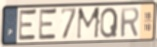7: (60, 7, 78, 41)
E: (38, 7, 59, 42), (17, 8, 38, 43)
M: (75, 6, 103, 41)
Q: (99, 6, 119, 40)
R: (119, 6, 140, 39)
